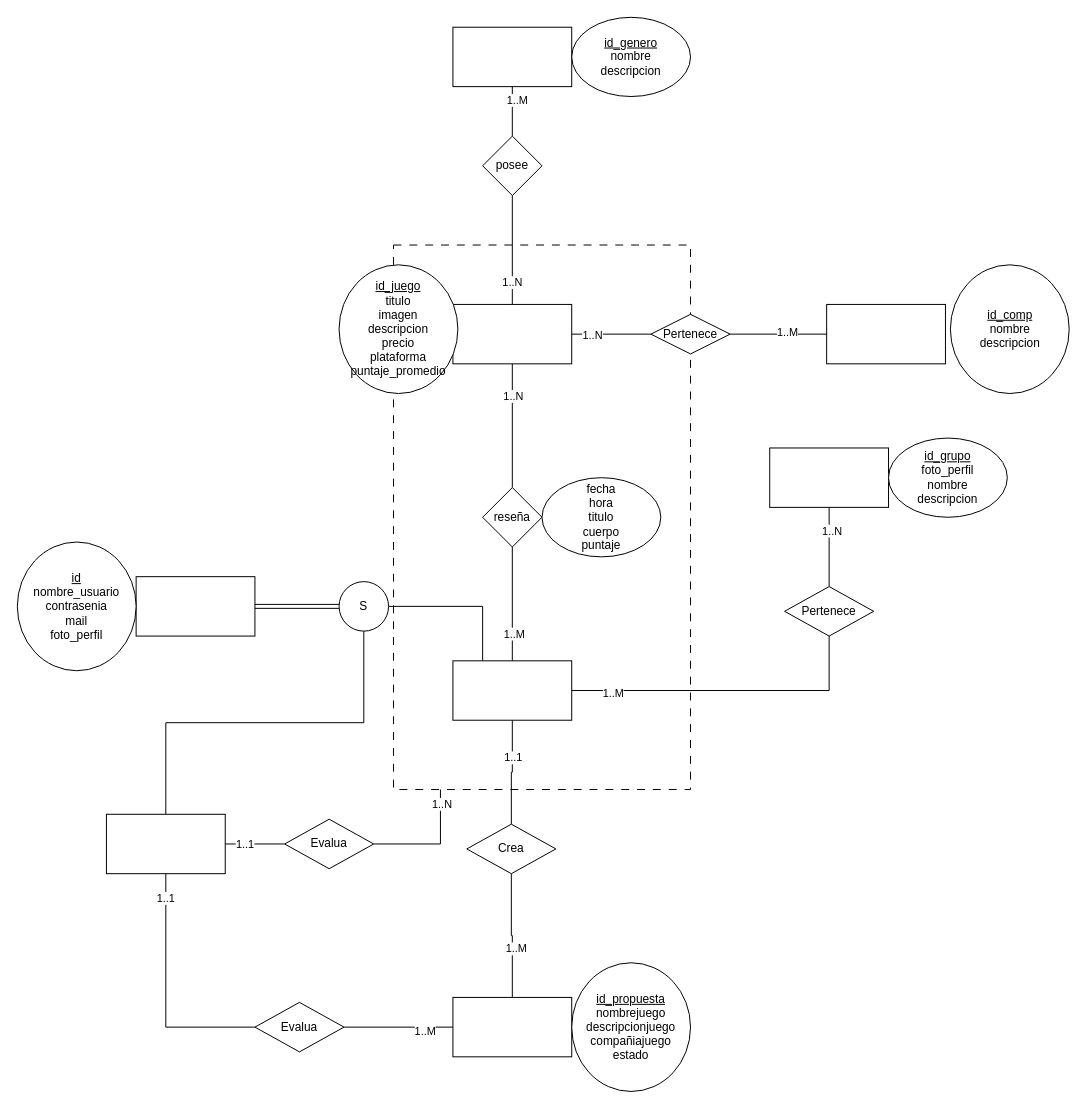
Some shapes in this 1087 by 1109 pixel diagram are drawn without their labels. The shapes that lost their labels are listed below. From the top down, each one's centre as x and y in pixels, then its label:
At [512,56]: "Genero".
At [512,333]: "Juego".
At [885,333]: "Compañía".
At [829,477]: "Grupo".
At [195,606]: "Persona".
At [512,690]: "Usuario".
At [165,843]: "Administrador".
At [512,1026]: "Propuesta".
